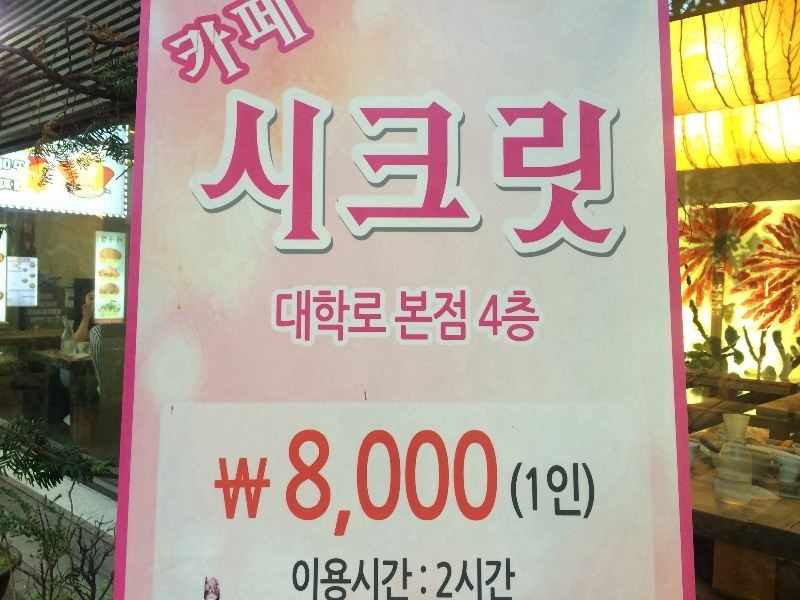text: (209, 100, 224, 245), (225, 100, 240, 245), (241, 100, 256, 245), (257, 100, 272, 245), (273, 100, 288, 245), (289, 100, 304, 245), (305, 100, 320, 245), (321, 100, 336, 245), (337, 100, 352, 245), (353, 100, 368, 245), (369, 100, 384, 245), (385, 100, 400, 245), (401, 100, 416, 245), (417, 100, 432, 245), (433, 100, 448, 245), (449, 100, 464, 245), (465, 100, 480, 245), (481, 100, 496, 245), (497, 100, 512, 245), (513, 100, 528, 245), (529, 100, 544, 245), (545, 100, 560, 245), (561, 100, 576, 245), (577, 100, 592, 245), (593, 100, 608, 245), (225, 429, 240, 547), (241, 429, 256, 547), (257, 429, 272, 547), (273, 429, 288, 547), (289, 429, 304, 547), (305, 429, 320, 547), (321, 429, 336, 547), (337, 429, 352, 547), (353, 429, 368, 547), (369, 429, 384, 547), (385, 429, 400, 547), (401, 429, 416, 547), (417, 429, 432, 547), (433, 429, 448, 547), (449, 429, 464, 547), (465, 429, 480, 547), (481, 429, 496, 547), (497, 429, 512, 547), (513, 429, 528, 547), (529, 429, 544, 547), (545, 429, 560, 547), (561, 429, 576, 547), (577, 429, 592, 547), (145, 1, 160, 107), (161, 1, 176, 107), (177, 1, 192, 107), (193, 1, 208, 107), (209, 1, 224, 107), (225, 1, 240, 107), (241, 1, 256, 107), (257, 1, 272, 107), (273, 1, 288, 107), (289, 1, 304, 107), (305, 1, 317, 107), (134, 1, 144, 107), (201, 100, 208, 245), (289, 288, 304, 345), (305, 288, 320, 345), (321, 288, 336, 345), (337, 288, 352, 345), (353, 288, 368, 345), (369, 288, 384, 345), (481, 288, 496, 344), (497, 288, 512, 344), (513, 288, 528, 344), (217, 429, 224, 547), (401, 290, 416, 344), (417, 290, 432, 344), (433, 290, 448, 344), (449, 290, 464, 344), (275, 288, 288, 345), (529, 288, 541, 344), (305, 558, 320, 599), (321, 558, 336, 599), (337, 558, 352, 599), (353, 558, 368, 599), (369, 558, 384, 599), (385, 558, 400, 599), (401, 558, 416, 599), (417, 558, 432, 599), (433, 558, 448, 599), (449, 558, 464, 599), (465, 558, 480, 599), (481, 558, 496, 599), (497, 558, 512, 599), (609, 100, 613, 245), (293, 558, 304, 599), (593, 429, 596, 547), (395, 290, 400, 344), (1, 157, 16, 174), (1, 177, 16, 193), (385, 288, 388, 345), (17, 157, 27, 174), (513, 558, 517, 599), (465, 290, 468, 344), (17, 177, 26, 193), (113, 234, 125, 244), (101, 234, 112, 244), (479, 288, 480, 344)
